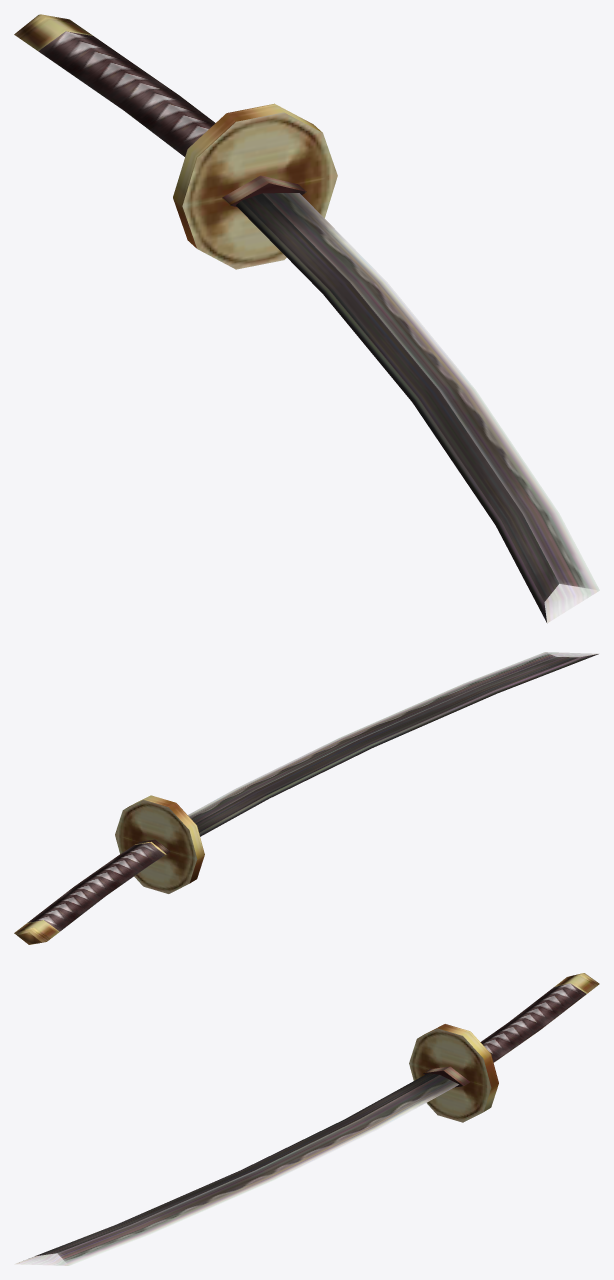
The model's file is blade0019.fbx.
3 renders of one model, top to bottom at view 1: azimuth 30°, elevation 25°; view 2: azimuth 150°, elevation 25°; view 3: azimuth 330°, elevation 25°, orthographic. The views are drawn at different scales.
Visible parts, largest first — view 1: blade0019_m; view 2: blade0019_m; view 3: blade0019_m.
Part boxes in pixels (x1,y1,x2,y2): blade0019_m: [14, 14, 599, 623]; blade0019_m: [14, 652, 599, 944]; blade0019_m: [14, 973, 599, 1265].
Bounding box in the file's own units: 0.3387 × 0.1576 × 1.43.
